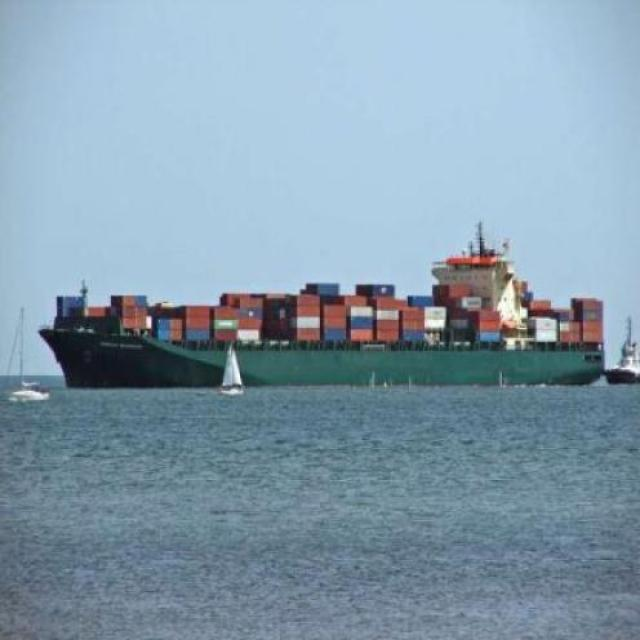boat: (25, 278, 614, 392)
